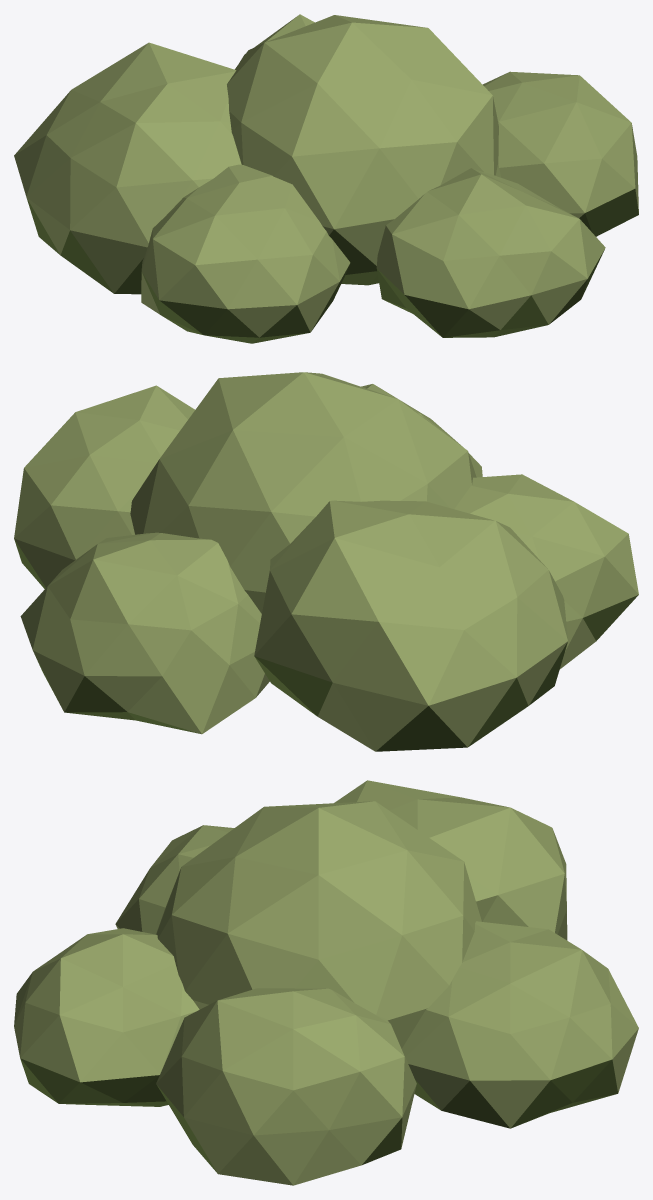
The model's file is bush_b.glb.
The picture shows the model from 3 angles, top to bottom: view 1: azimuth 30°, elevation 25°; view 2: azimuth 150°, elevation 25°; view 3: azimuth 270°, elevation 25°; orthographic projection. The views are drawn at different scales.
Parts seen in each view (by area): view 1: bush_b; view 2: bush_b; view 3: bush_b.
Part boxes in pixels (x1,y1,x2,y2): bush_b: (14, 14, 638, 343); bush_b: (14, 372, 638, 751); bush_b: (14, 780, 638, 1185).
Size of the model in its own units: 0.9662 by 0.4203 by 0.9288.
